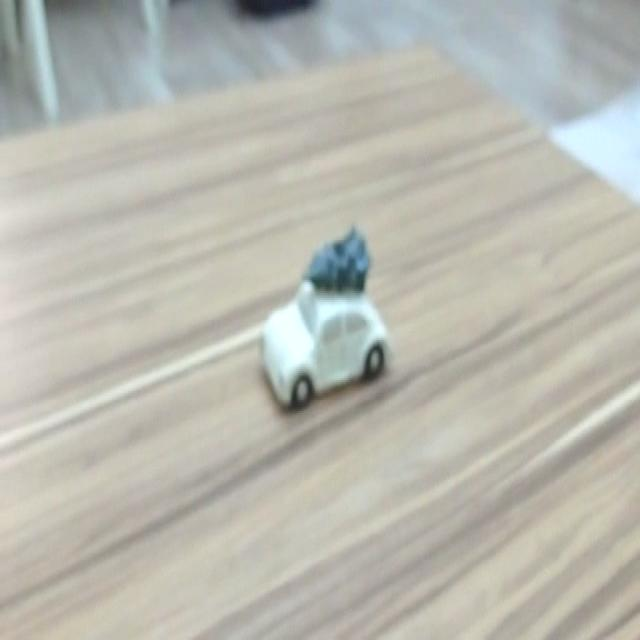car: (260, 290, 388, 395)
